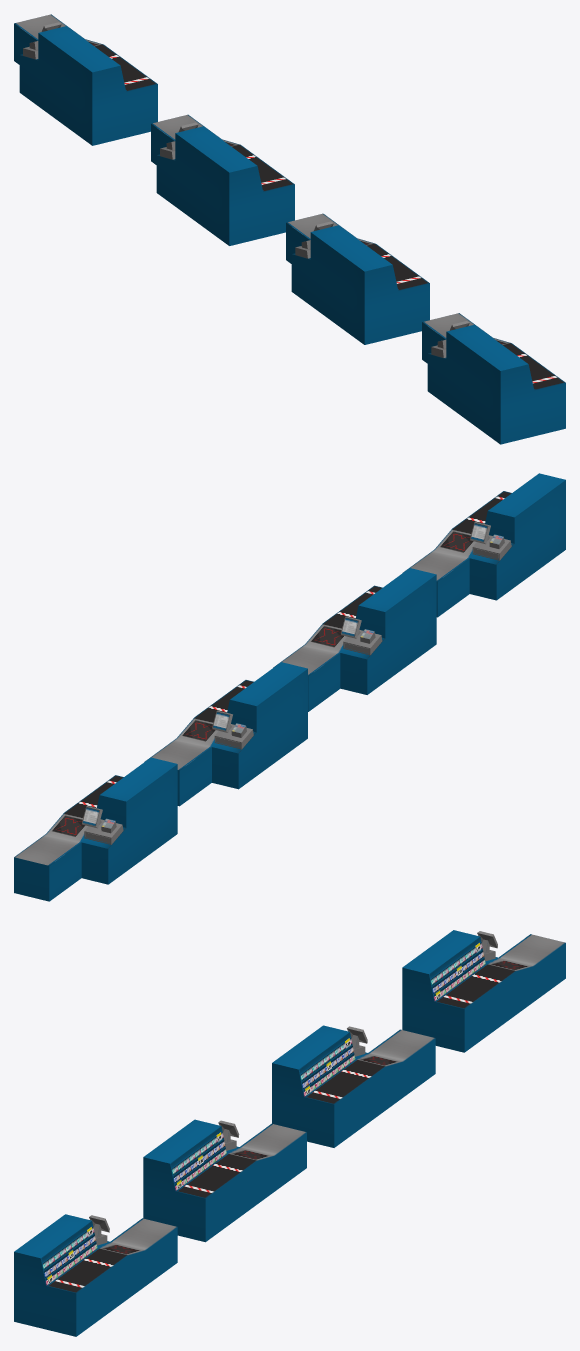
Rendered from Cash_Registers.fbx.
3 views of the same model, one above another, from view 1: azimuth 30°, elevation 25°; view 2: azimuth 150°, elevation 25°; view 3: azimuth 330°, elevation 25° (orthographic). The views are drawn at different scales.
Visible parts, largest first — view 1: polySurface430; view 2: polySurface430; view 3: polySurface430.
Part boxes in pixels (<box>): polySurface430: <box>14,14,565,444</box>; polySurface430: <box>14,473,565,901</box>; polySurface430: <box>14,930,565,1336</box>.
Size of the model in its own units: 1.6 by 1.72 by 21.77.
